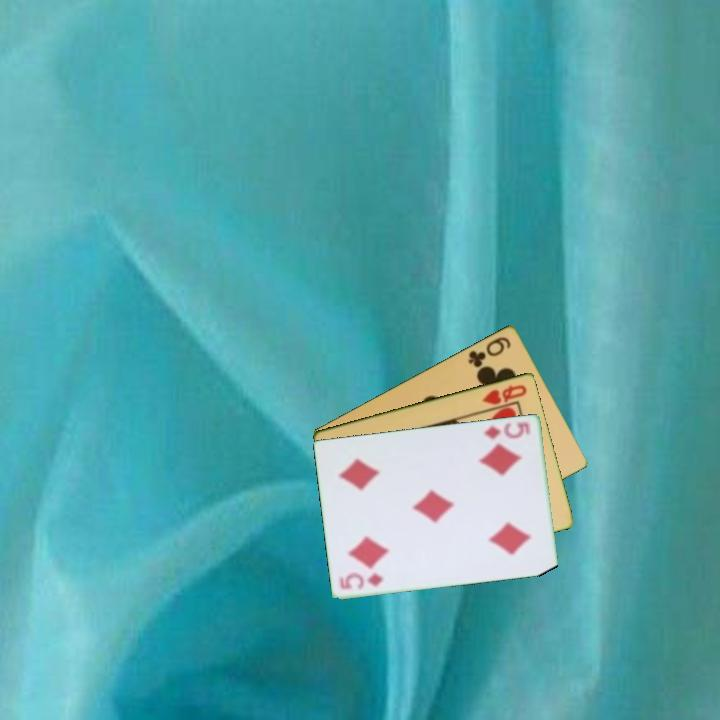5d: (481, 417, 533, 441), (337, 569, 386, 592)
6c: (465, 333, 514, 370)
Qh: (479, 381, 530, 407)
